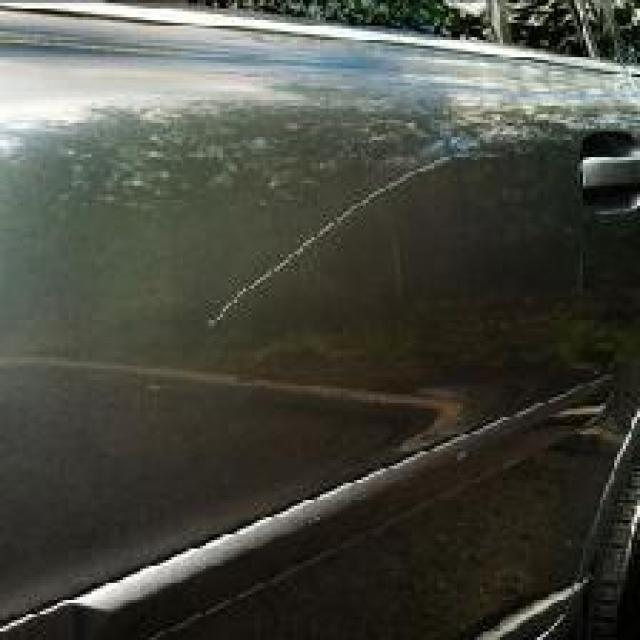damaged: (208, 148, 503, 328)
